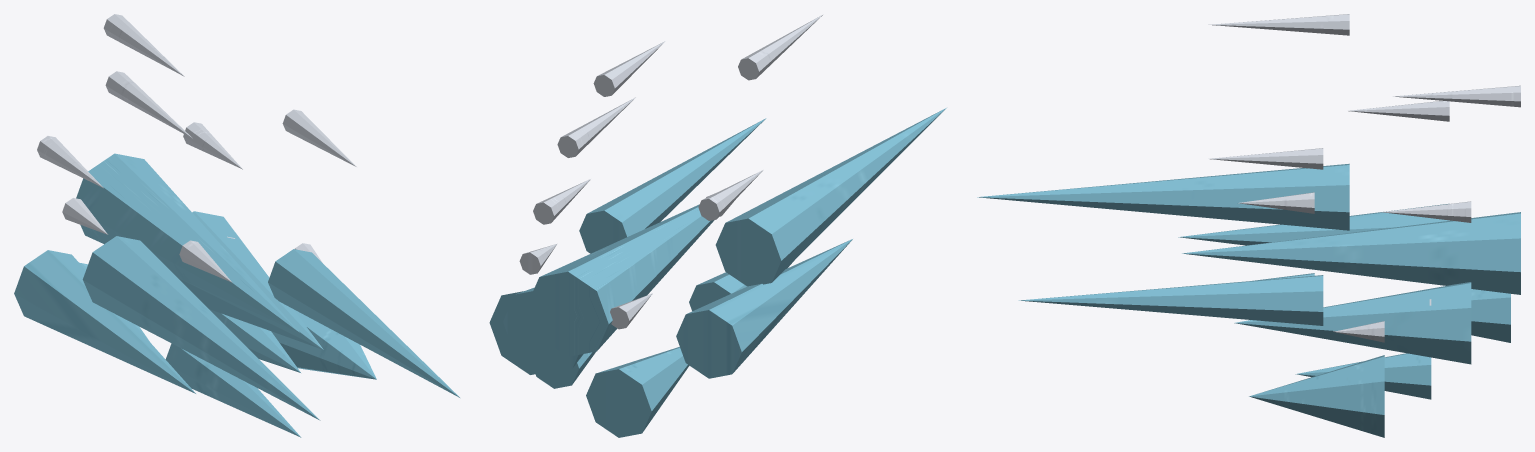
The model's file is ice_spire_cluster_lod0.glb.
The picture shows the model from 3 angles, left to right: view 1: azimuth 30°, elevation 25°; view 2: azimuth 150°, elevation 25°; view 3: azimuth 270°, elevation 25°; orthographic projection. The views are drawn at different scales.
Visible parts, largest first — view 1: ice_2, ice_4, ice_8, ice_6, ice_10, ice_12, ice_16, ice_0, snow_3, snow_5, snow_7, snow_9 (+3 smaller); view 2: ice_4, ice_2, ice_8, ice_6, ice_14, ice_10, snow_3, snow_5, snow_7, ice_16, ice_12, snow_9 (+4 smaller); view 3: ice_4, ice_2, ice_10, ice_6, ice_16, ice_8, ice_0, ice_14, snow_3, snow_5, snow_7, snow_9 (+3 smaller).
Part boxes in pixels (x1=…): ice_2: x1=82, y1=236, x2=320, y2=420; ice_4: x1=76, y1=153, x2=299, y2=332; ice_8: x1=14, y1=250, x2=195, y2=393; ice_6: x1=268, y1=249, x2=459, y2=397; ice_10: x1=178, y1=211, x2=323, y2=349; ice_12: x1=165, y1=343, x2=301, y2=437; ice_16: x1=271, y1=309, x2=376, y2=379; ice_0: x1=209, y1=309, x2=300, y2=372; snow_3: x1=105, y1=71, x2=192, y2=138; snow_5: x1=103, y1=14, x2=184, y2=76; snow_7: x1=282, y1=109, x2=356, y2=166; snow_9: x1=37, y1=136, x2=103, y2=187; ice_4: x1=527, y1=204, x2=714, y2=356; ice_2: x1=715, y1=108, x2=946, y2=286; ice_8: x1=676, y1=239, x2=852, y2=378; ice_6: x1=579, y1=118, x2=766, y2=253; ice_14: x1=586, y1=347, x2=689, y2=437; ice_10: x1=503, y1=287, x2=583, y2=374; snow_3: x1=738, y1=14, x2=823, y2=80; snow_5: x1=557, y1=97, x2=635, y2=157; snow_7: x1=593, y1=41, x2=665, y2=96; ice_16: x1=489, y1=291, x2=535, y2=374; ice_12: x1=689, y1=260, x2=794, y2=310; snow_9: x1=698, y1=170, x2=763, y2=220; ice_4: x1=1182, y1=212, x2=1520, y2=294; ice_2: x1=977, y1=163, x2=1349, y2=230; ice_10: x1=1234, y1=282, x2=1471, y2=364; ice_6: x1=1018, y1=275, x2=1323, y2=325; ice_16: x1=1249, y1=355, x2=1384, y2=437; ice_8: x1=1178, y1=203, x2=1449, y2=245; ice_0: x1=1295, y1=353, x2=1431, y2=399; ice_14: x1=1471, y1=289, x2=1510, y2=342; snow_3: x1=1208, y1=14, x2=1349, y2=35; snow_5: x1=1392, y1=85, x2=1520, y2=107; snow_7: x1=1208, y1=148, x2=1323, y2=169; snow_9: x1=1348, y1=101, x2=1449, y2=121.
Size of the model in its own units: 9.16 by 10.74 by 16.04.
Materials: 2 (2 with a texture image).
